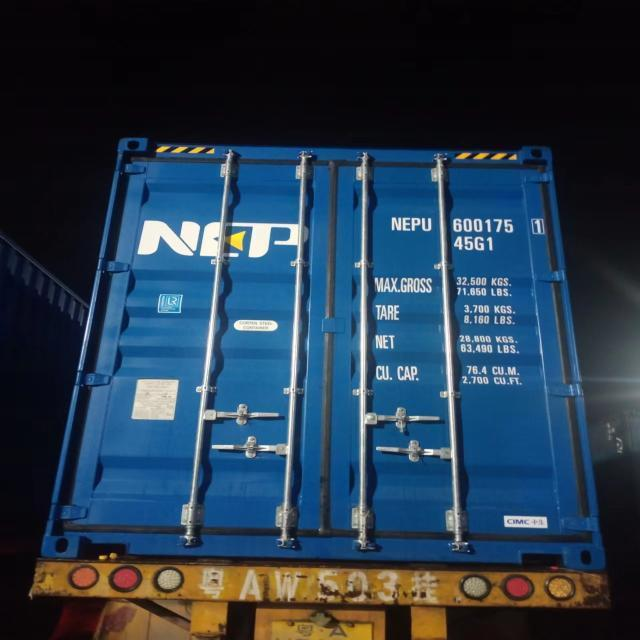ISO: (448, 234, 504, 258)
container_number: (395, 216, 547, 235)
